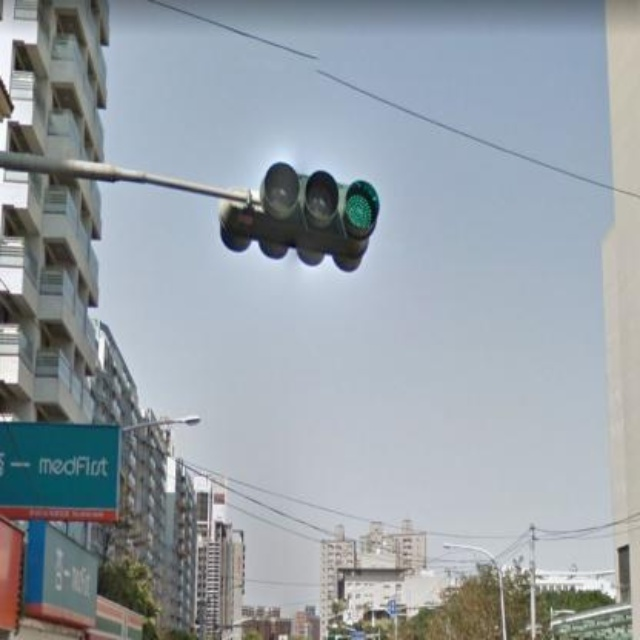Đèn xanh: (255, 159, 380, 242)
